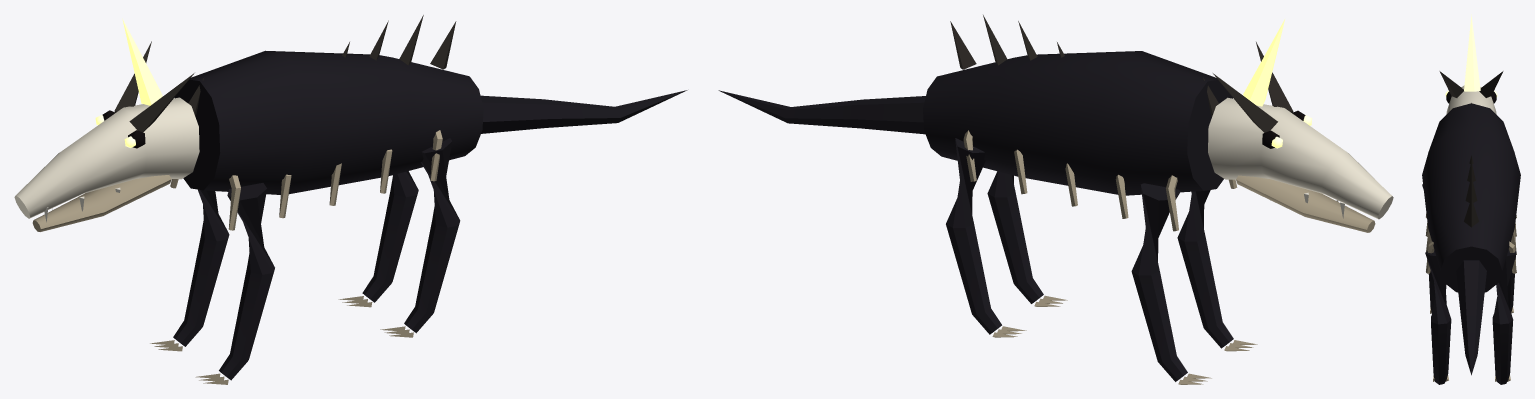
File: m_gloamstalker.glb
The picture shows the model from 3 angles, left to right: view 1: azimuth 30°, elevation 25°; view 2: azimuth 150°, elevation 25°; view 3: azimuth 270°, elevation 25°; orthographic projection. The views are drawn at different scales.
Visible parts, largest first — view 1: body, head, legFL, tail, legBL, legFR, legBR, horn; view 2: body, head, legFR, tail, legBR, legFL, legBL, horn; view 3: body, tail, legBL, legBR, head, horn, legFR, legFL.
Part boxes in pixels (left/top/right/bottom): body: left=170, top=15, right=483, bottom=230; head: left=14, top=41, right=199, bottom=231; legFL: left=195, top=183, right=274, bottom=384; tail: left=480, top=90, right=687, bottom=133; legBL: left=380, top=138, right=460, bottom=337; legFR: left=150, top=189, right=229, bottom=351; legBR: left=338, top=171, right=418, bottom=307; horn: left=122, top=18, right=162, bottom=105; body: left=923, top=15, right=1237, bottom=231; head: left=1208, top=42, right=1393, bottom=232; legFR: left=1131, top=183, right=1211, bottom=384; tail: left=718, top=90, right=925, bottom=134; legBR: left=946, top=138, right=1026, bottom=337; legFL: left=1177, top=190, right=1257, bottom=351; legBL: left=987, top=171, right=1067, bottom=306; horn: left=1243, top=19, right=1284, bottom=106; body: left=1422, top=103, right=1520, bottom=292; tail: left=1456, top=260, right=1486, bottom=375; legBL: left=1425, top=250, right=1451, bottom=384; legBR: left=1492, top=249, right=1516, bottom=384; head: left=1439, top=71, right=1503, bottom=114; horn: left=1464, top=14, right=1480, bottom=91; legFR: left=1507, top=256, right=1515, bottom=313; legFL: left=1422, top=184, right=1446, bottom=313.
Size of the model in its own units: 1.86 by 0.9712 by 0.32.
